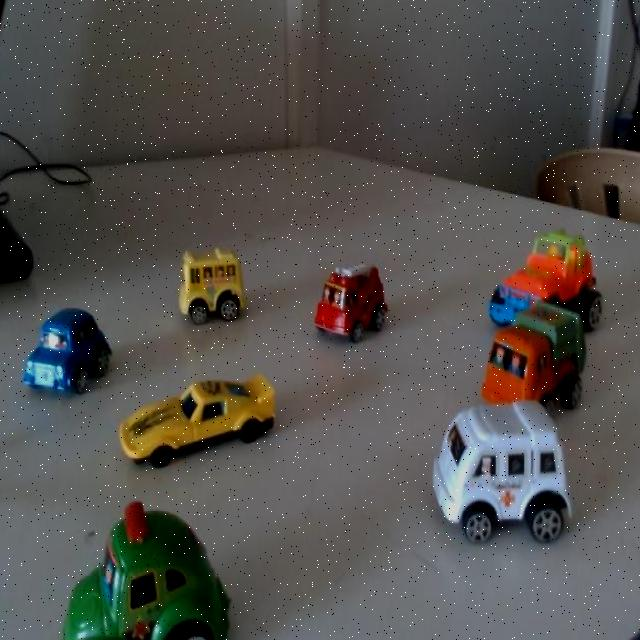car: (403, 377, 560, 571), (51, 518, 197, 640), (127, 360, 259, 482), (479, 224, 567, 335), (165, 240, 253, 340), (488, 294, 558, 418), (312, 250, 389, 361), (23, 305, 96, 400)
